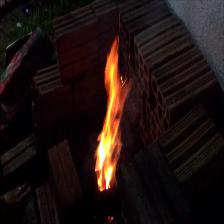fire: (70, 31, 150, 209)
